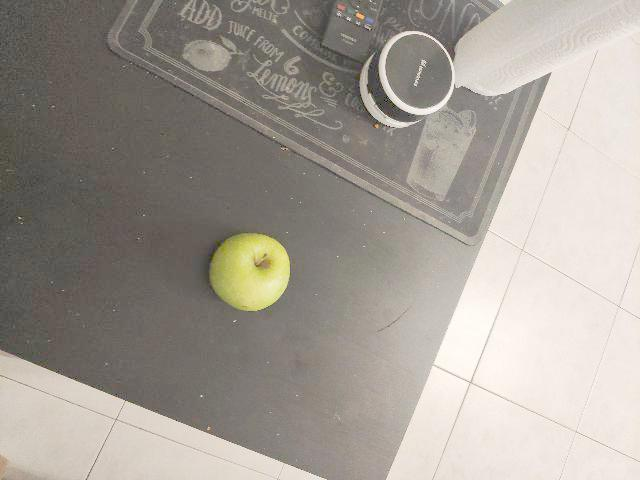apple: (379, 338, 476, 442)
